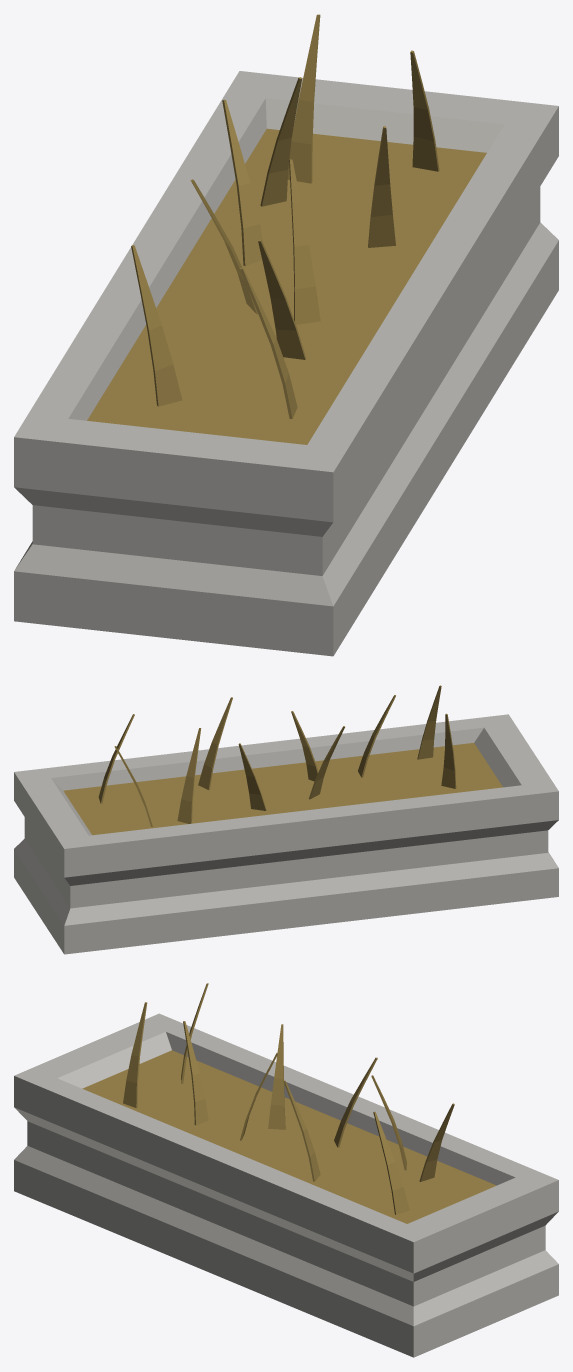
File: leyndell_pot.glb
The picture shows the model from 3 angles, top to bottom: view 1: azimuth 30°, elevation 25°; view 2: azimuth 150°, elevation 25°; view 3: azimuth 270°, elevation 25°; orthographic projection. The views are drawn at different scales.
Parts seen in each view (by area): view 1: Cube.986; view 2: Cube.986; view 3: Cube.986.
Part boxes in pixels (x1=…): Cube.986: x1=14, y1=14, x2=558, y2=656; Cube.986: x1=14, y1=685, x2=558, y2=954; Cube.986: x1=14, y1=983, x2=558, y2=1357.
Size of the model in its own units: 0.0703 by 0.0278 by 0.0708.
